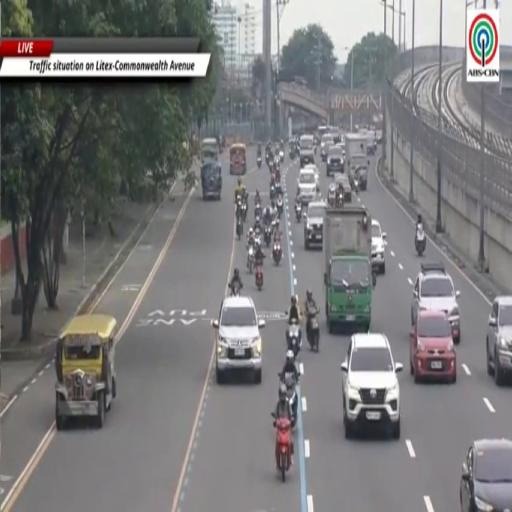car: (341, 333, 402, 439), (212, 296, 265, 383), (411, 263, 461, 344), (460, 439, 511, 511), (410, 311, 456, 382), (486, 296, 512, 385), (304, 202, 325, 249), (372, 219, 386, 274), (298, 169, 317, 204), (334, 173, 351, 203), (327, 146, 344, 175), (299, 135, 314, 167), (304, 165, 320, 191), (321, 140, 333, 163), (321, 133, 333, 150), (331, 128, 341, 143)
jeepney: (56, 314, 116, 429), (230, 143, 247, 174), (334, 173, 351, 202), (201, 138, 219, 163), (327, 182, 336, 208)
motorcycle: (272, 413, 291, 482), (280, 373, 297, 429), (287, 323, 301, 359), (307, 310, 319, 351), (415, 226, 426, 255), (255, 263, 263, 291), (273, 243, 282, 265), (247, 246, 254, 274), (236, 216, 243, 239), (264, 227, 272, 247), (294, 203, 302, 223), (230, 282, 240, 296), (277, 196, 283, 218), (241, 202, 247, 221), (255, 230, 261, 247), (275, 169, 281, 186), (353, 176, 359, 193), (276, 181, 282, 197), (255, 203, 261, 219), (271, 219, 277, 233), (270, 185, 275, 200), (266, 153, 270, 166), (280, 150, 284, 163), (257, 156, 261, 168), (289, 150, 294, 159)
truck: (323, 204, 376, 333), (345, 134, 369, 190)
